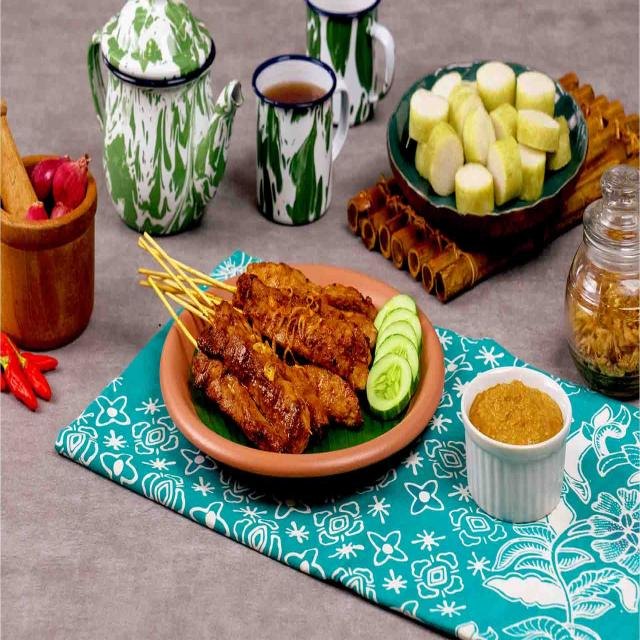sate: (130, 218, 378, 458)
